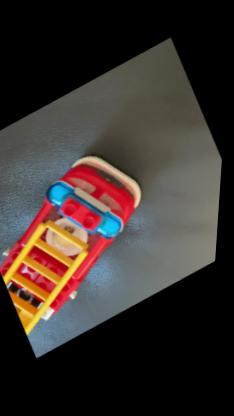lego fire truck: (0, 133, 185, 347)
